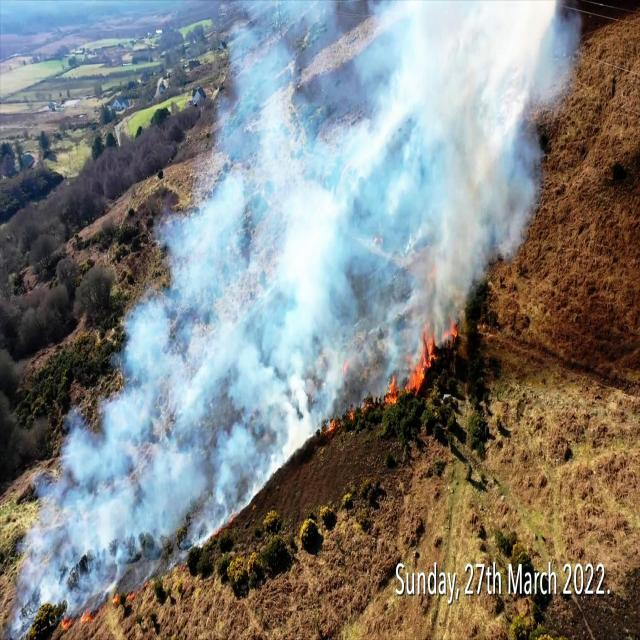Fire: (381, 321, 464, 408)
Smoke: (176, 0, 562, 316), (0, 303, 317, 639), (322, 322, 380, 423)
